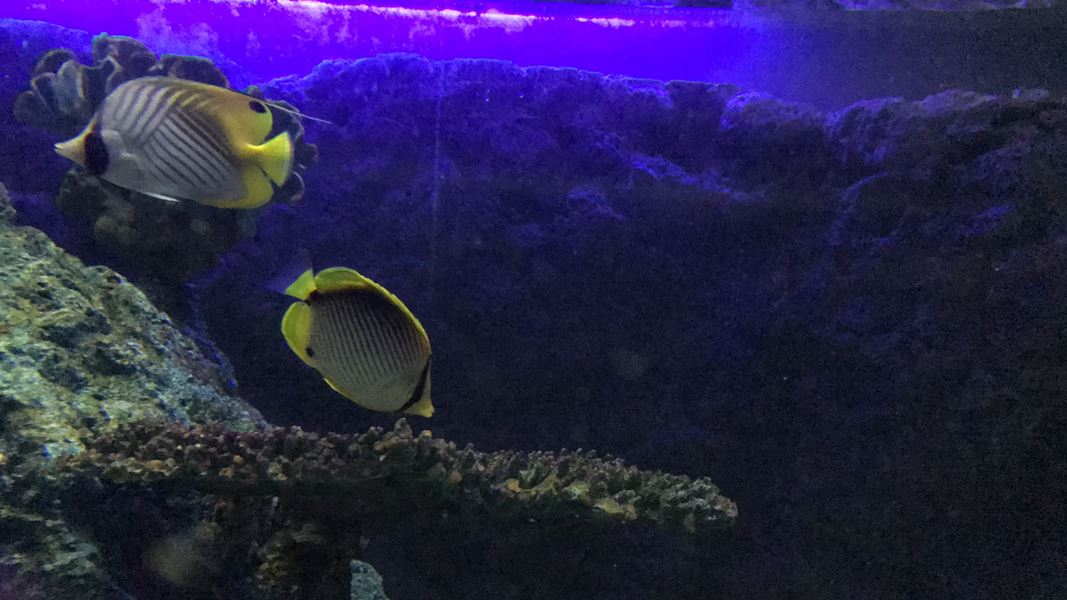Black-backed butterflyfish: (252, 237, 445, 431)
